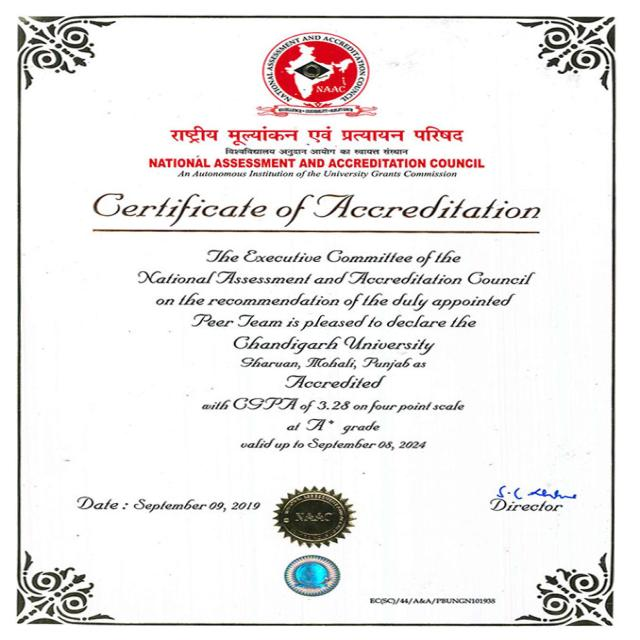signature: (489, 474, 583, 513)
stamp: (274, 486, 358, 548)
